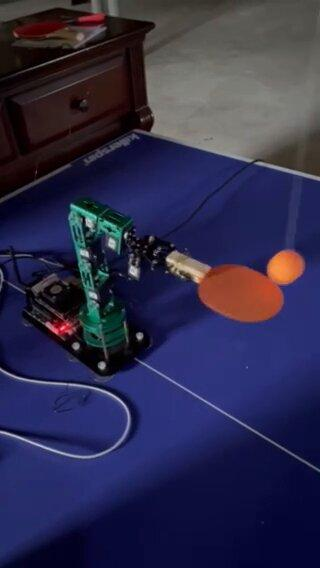oball: (267, 248, 302, 284)
